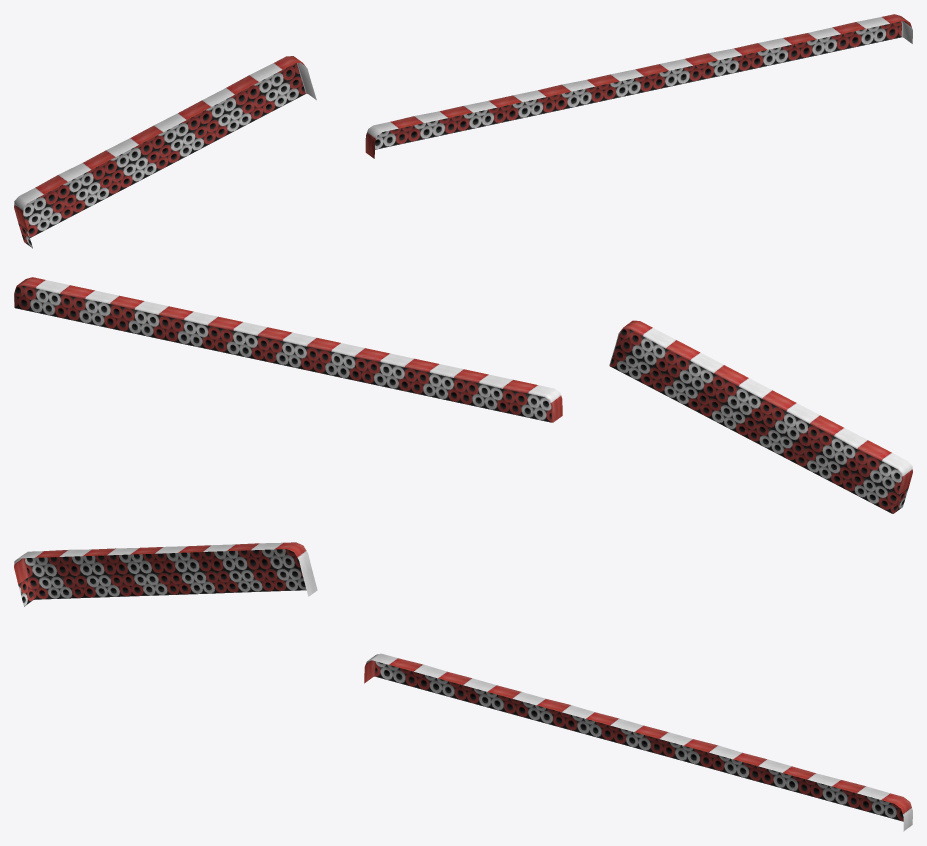
File: _1WALL_tires01_01_001.obj
The picture shows the model from 3 angles, top to bottom: view 1: azimuth 30°, elevation 25°; view 2: azimuth 150°, elevation 25°; view 3: azimuth 330°, elevation 25°; orthographic projection.
Parts seen in each view (by area): view 1: _1WALL_tires01_01_001_Scene.374; view 2: _1WALL_tires01_01_001_Scene.374; view 3: _1WALL_tires01_01_001_Scene.374.
Part boxes in pixels (x1,y1,x2,y2): _1WALL_tires01_01_001_Scene.374: (14,14,912,248); _1WALL_tires01_01_001_Scene.374: (14,277,912,513); _1WALL_tires01_01_001_Scene.374: (14,542,912,831).
Size of the model in its own units: 5813 by 818 by 130.
